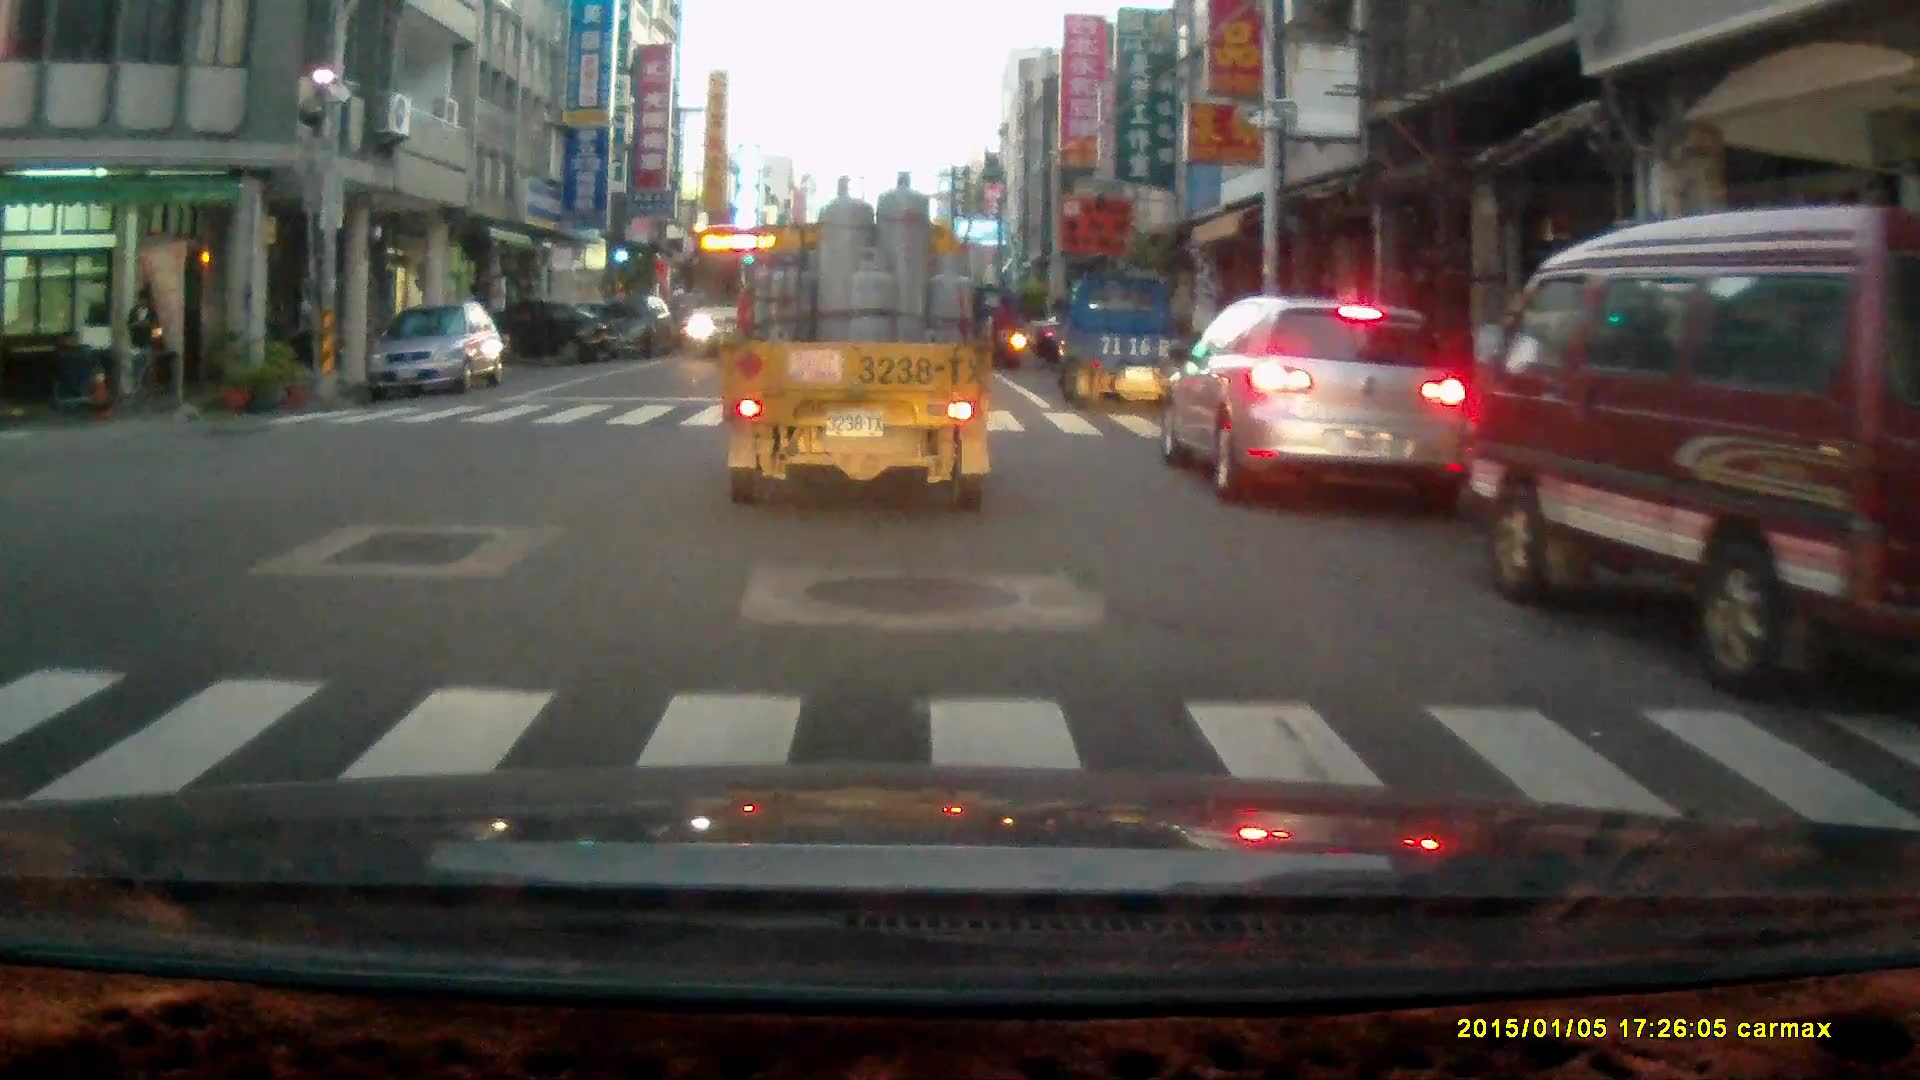pedestrian: (124, 286, 162, 410), (989, 296, 1014, 370)
vehicle: (1463, 202, 1920, 706), (719, 171, 993, 515), (1166, 293, 1466, 506), (682, 223, 812, 370), (1060, 272, 1196, 408), (361, 298, 509, 399), (463, 297, 609, 365), (593, 295, 678, 365)
